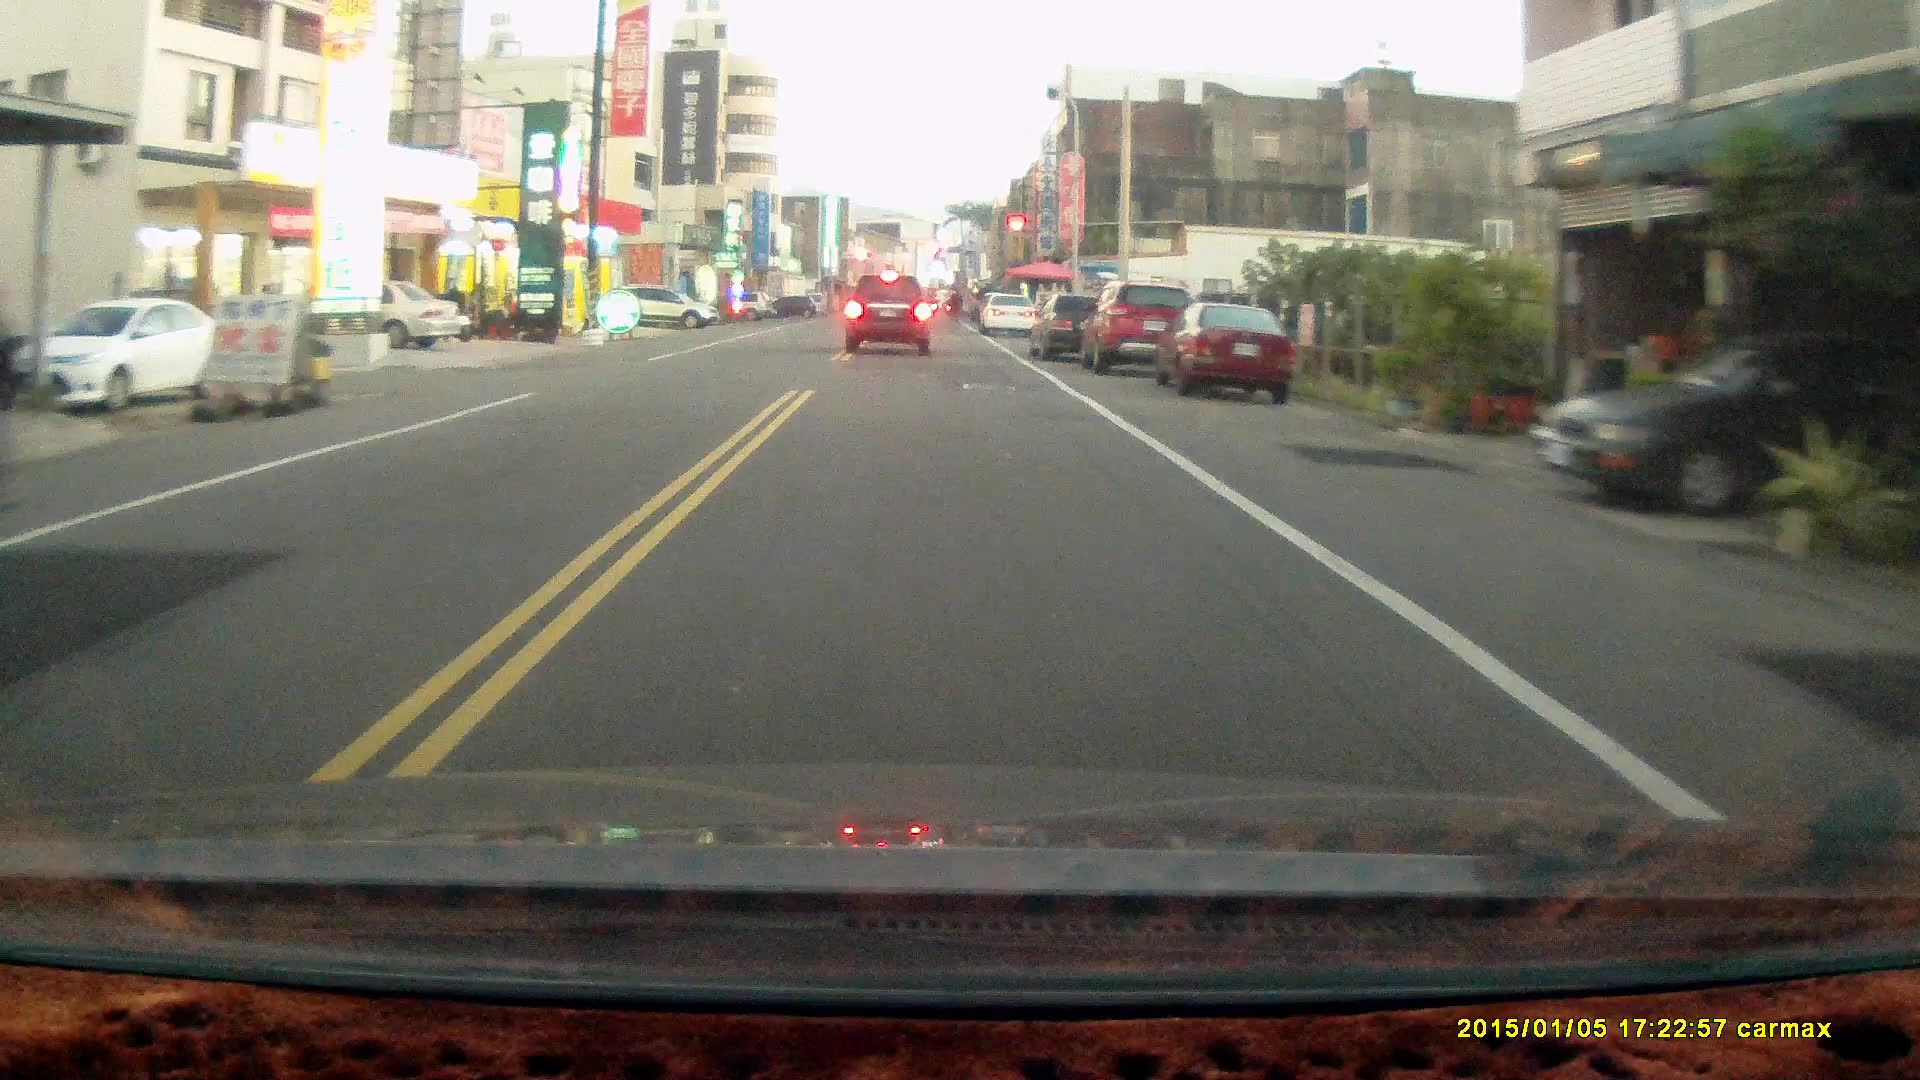vehicle: (1532, 328, 1920, 516), (15, 297, 245, 413), (1150, 301, 1300, 404), (287, 280, 465, 353), (1083, 280, 1196, 375), (844, 276, 934, 357), (1029, 291, 1133, 360), (620, 285, 716, 332), (978, 291, 1040, 339)
